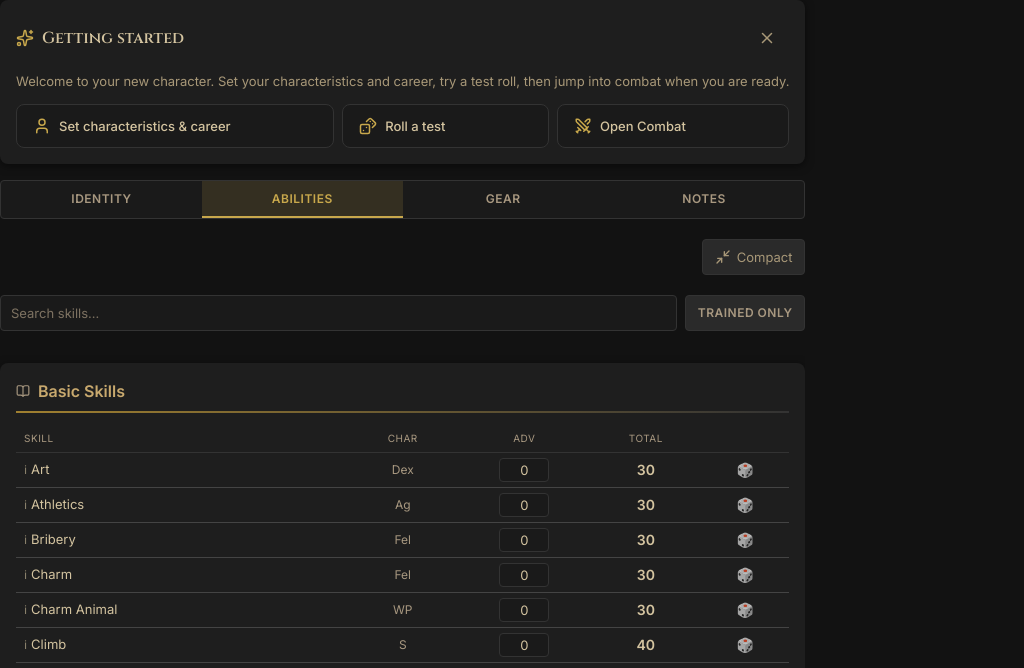
Scenario: CalculatedTooltips integration › CB Cell Tooltip (Req 2.1, 2.3) › click CB cell → tooltip shows current value and bonus
# CB cells are in the Identity tab — switch to it explicitly
Step 1. Click the tab "Identity" → (101, 199), box [1,180,202,218]
(page scrolled)
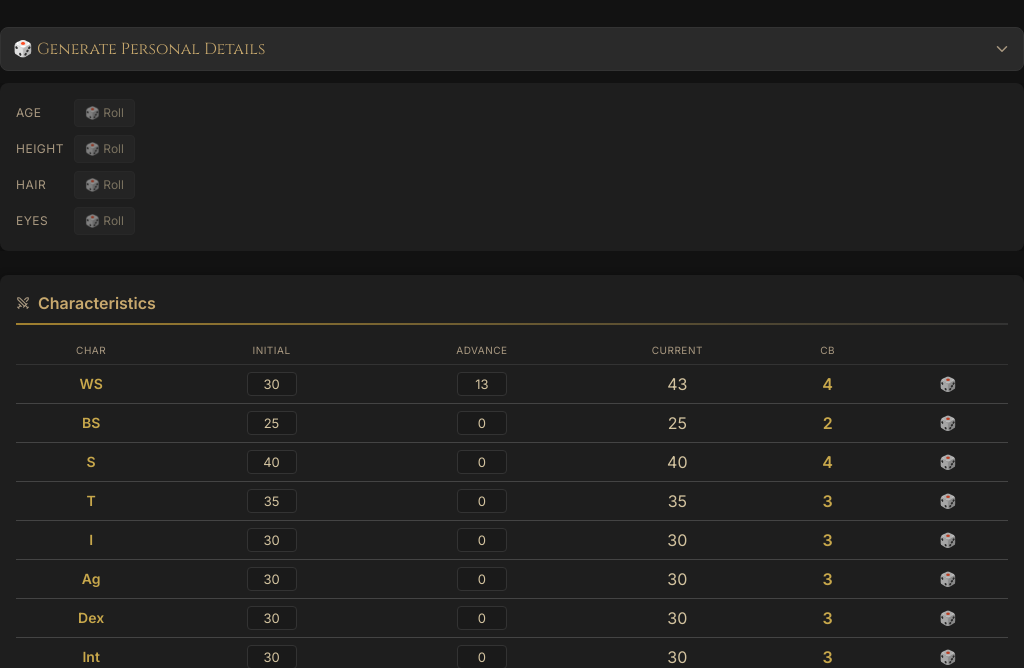
Check: the button named "CB breakdown for Weapon Skill" is shown
Check: the button named "CB breakdown for Weapon Skill" reads "4"
# Click opens tooltip
Step 2. Click the button named "CB breakdown for Weapon Skill" → (828, 384), box [822,374,833,394]
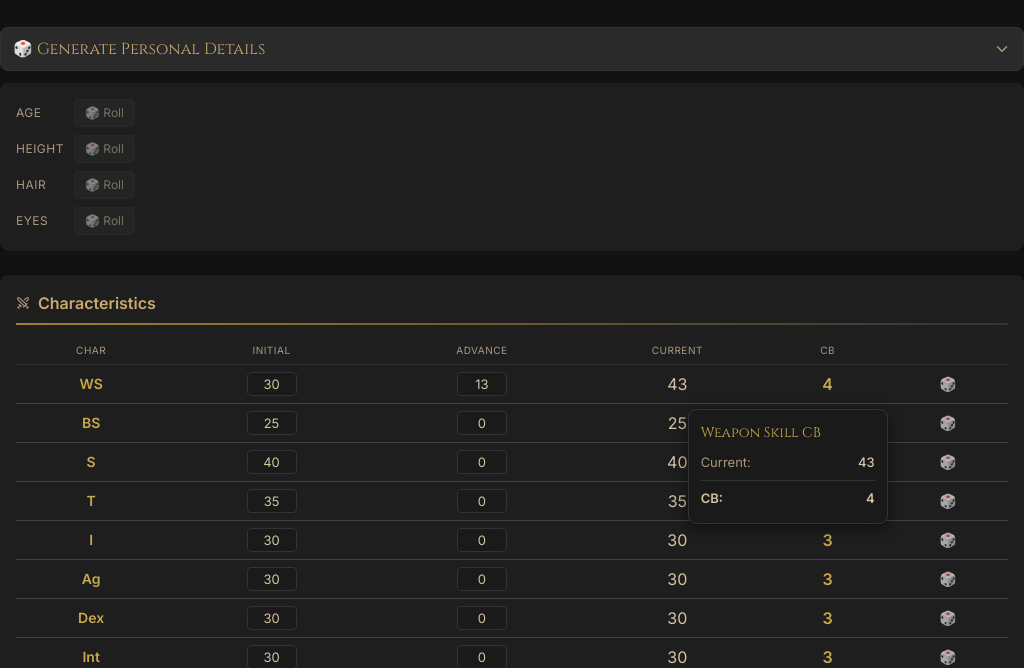
Check: the tooltip with id "tooltip-breakdown-cb-WS" is shown, box [688,408,888,524]
Check: the tooltip with id "tooltip-breakdown-cb-WS" shows "43", box [858,454,875,470]
Check: the tooltip with id "tooltip-breakdown-cb-WS" shows "4", box [866,490,875,506]
# Press Escape closes tooltip
Step 3. Press Escape
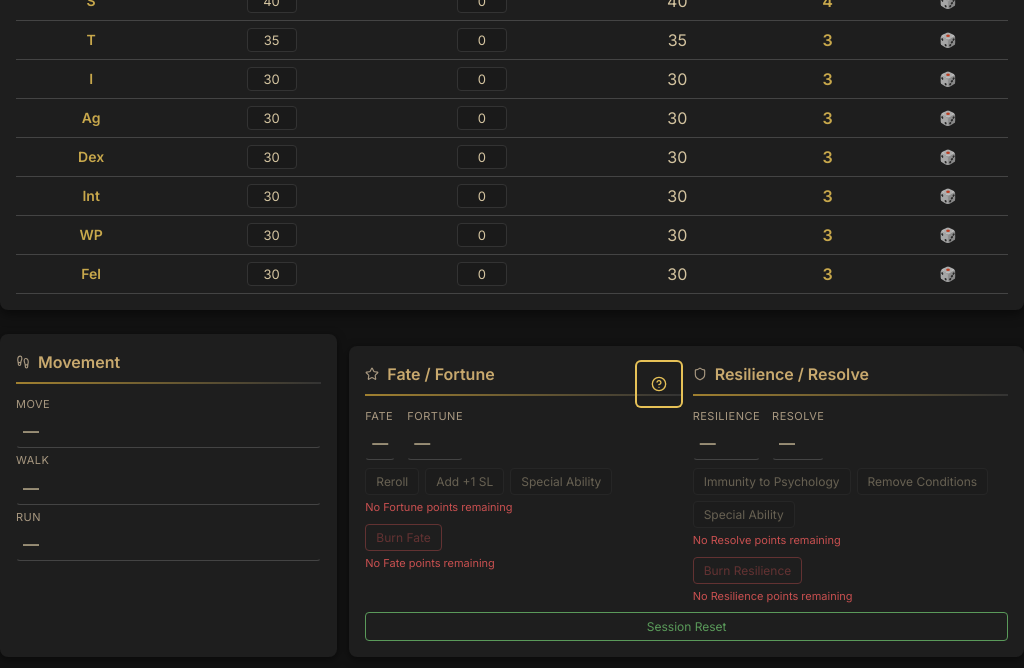
Check: the tooltip with id "tooltip-breakdown-cb-WS" is gone
